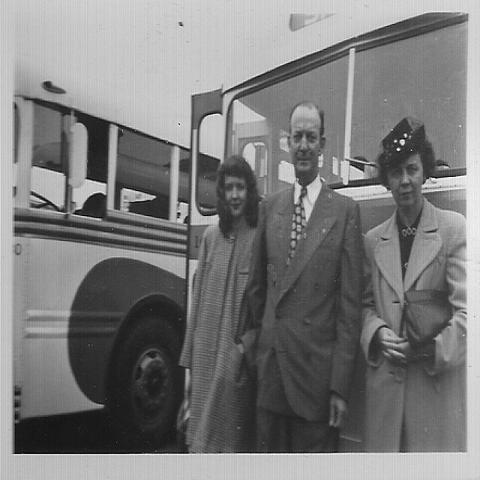bus: (186, 7, 470, 267), (10, 53, 195, 448)
